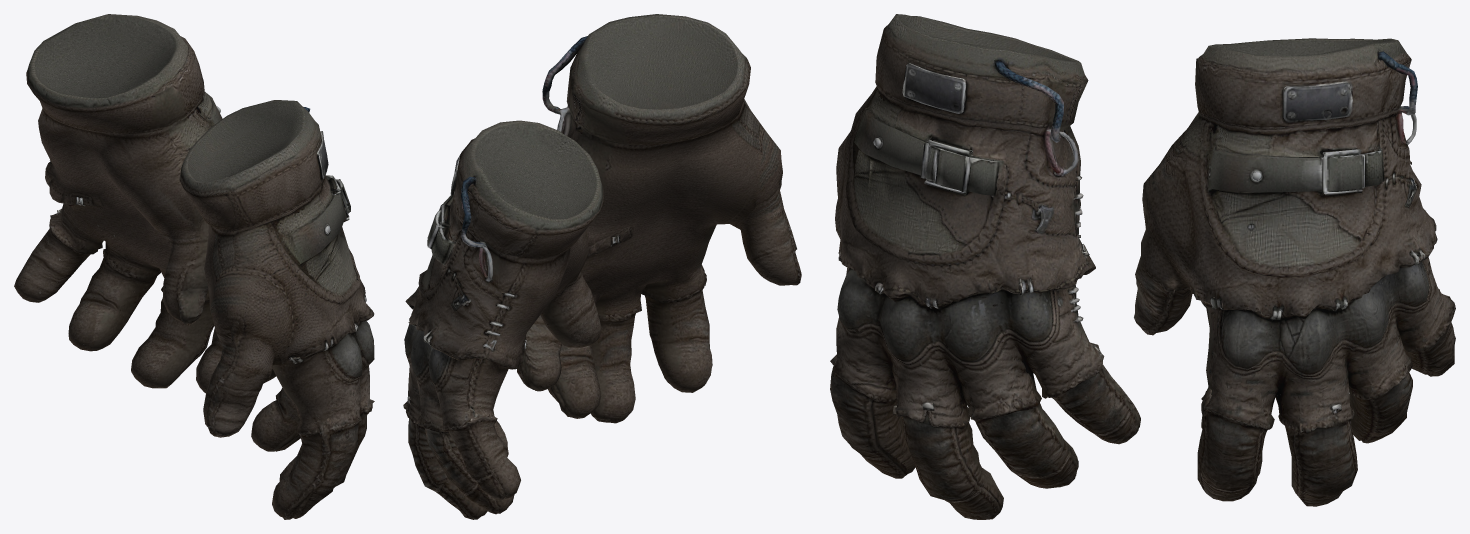
Rendered from tactical_gloves_3d_model.glb.
3 views of the same model, side by side, from view 1: azimuth 30°, elevation 25°; view 2: azimuth 150°, elevation 25°; view 3: azimuth 270°, elevation 25° (orthographic). The views are drawn at different scales.
Visible parts, largest first — view 1: world_0; view 2: world_0; view 3: world_0.
Part boxes in pixels (<box>): world_0: <box>14,14,374,519</box>; world_0: <box>403,14,801,519</box>; world_0: <box>830,14,1455,519</box>.
Size of the model in its own units: 0.4863 by 0.834 by 0.998.
Materials: 1 (1 with a texture image).
